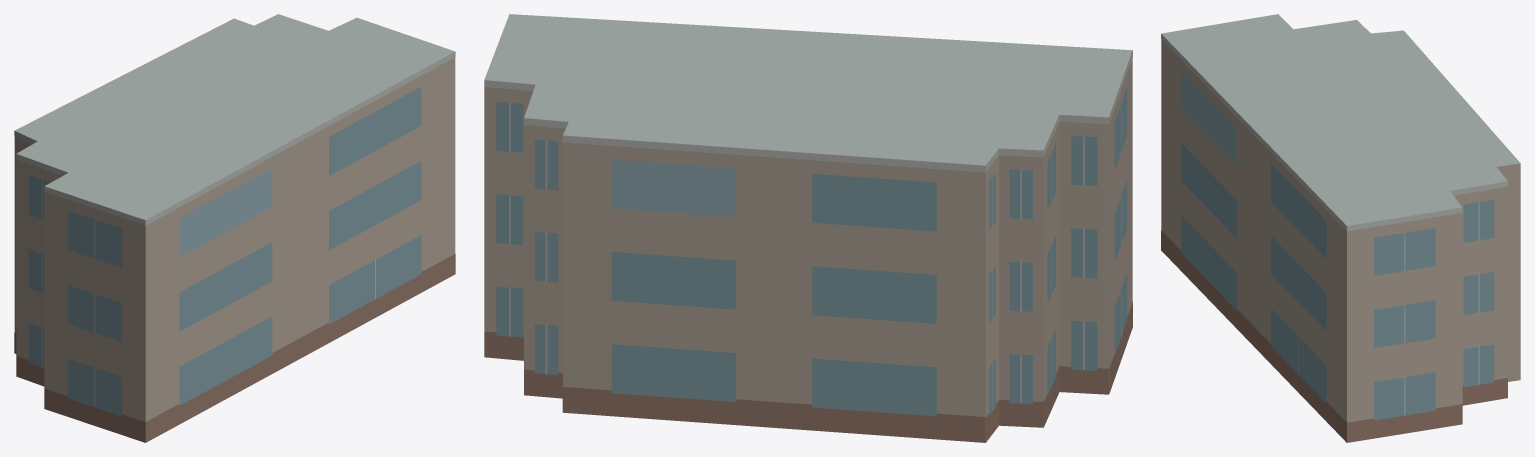
Rendered from survey-upis-32890646.glb.
The picture shows the model from 3 angles, left to right: view 1: azimuth 30°, elevation 25°; view 2: azimuth 150°, elevation 25°; view 3: azimuth 270°, elevation 25°; orthographic projection. The views are drawn at different scales.
Visible parts, largest first — view 1: survey-upis-32890646.tmp; view 2: survey-upis-32890646.tmp; view 3: survey-upis-32890646.tmp.
Boxes of the visible parts, <box> form: survey-upis-32890646.tmp: <box>14,14,455,442</box>; survey-upis-32890646.tmp: <box>484,14,1132,442</box>; survey-upis-32890646.tmp: <box>1161,14,1520,442</box>.
Bounding box in the file's own units: 20.57 × 9.8 × 14.74.
